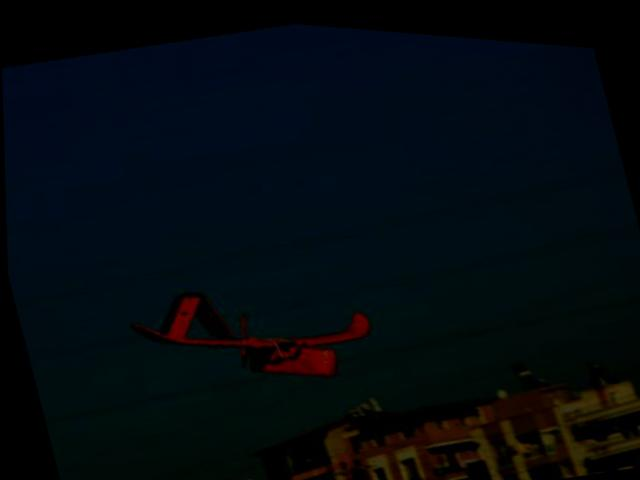iha: (112, 236, 391, 422)
